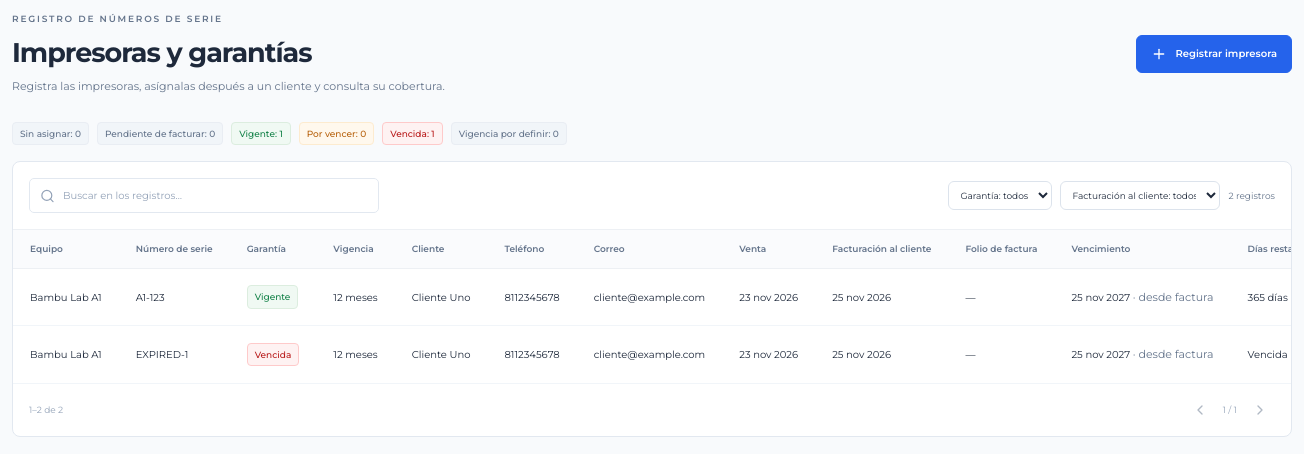
Scenario: permite filtrar garantías vencidas
expect the text "EXPIRED-1" is shown: met, box x1=119 y1=326 x2=230 y2=383
Select "Vencida" in the dropdown named "Filtrar por Garantía" at (1000, 196), box x1=948 y1=181 x2=1052 y2=210
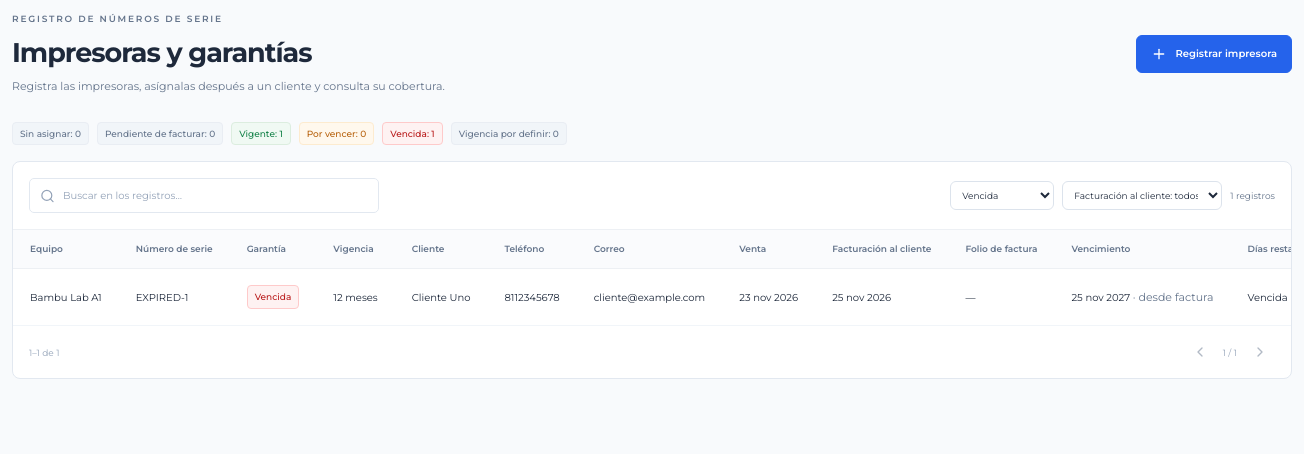
expect the text "EXPIRED-1" is shown: met, box x1=119 y1=268 x2=230 y2=326
expect the text "A1-123" is gone: met
